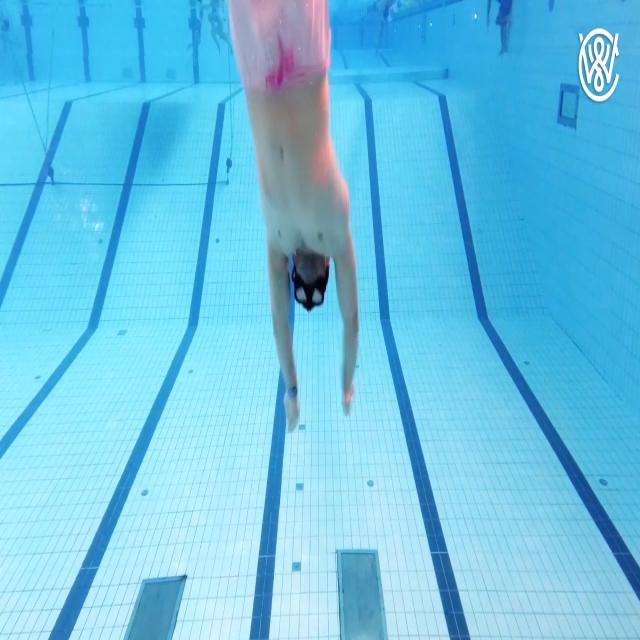Swimming: (227, 0, 361, 434)
